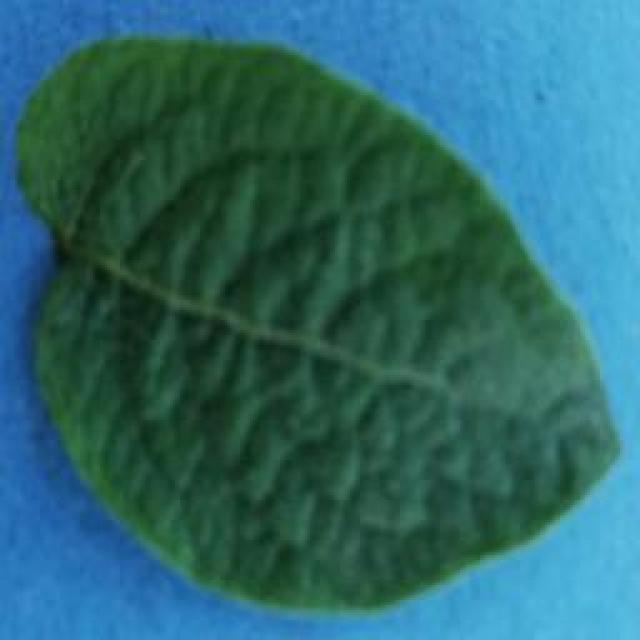Potato_Healthy: (19, 35, 616, 616)
